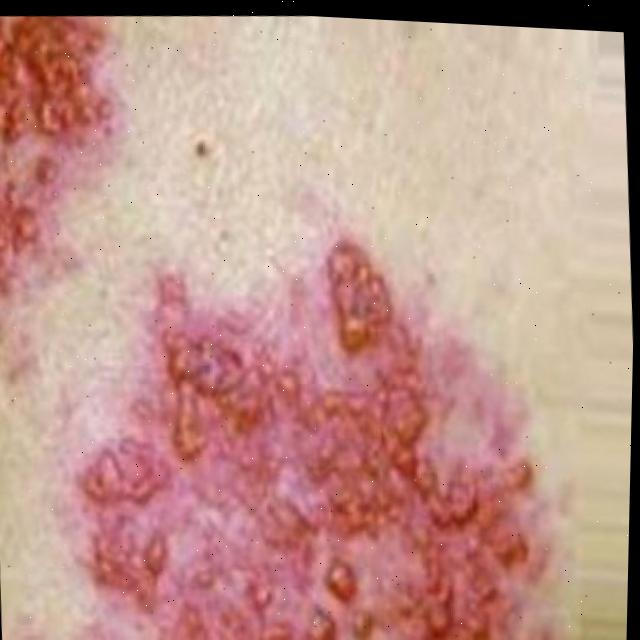Shingles: (108, 229, 538, 640), (0, 13, 111, 275)
